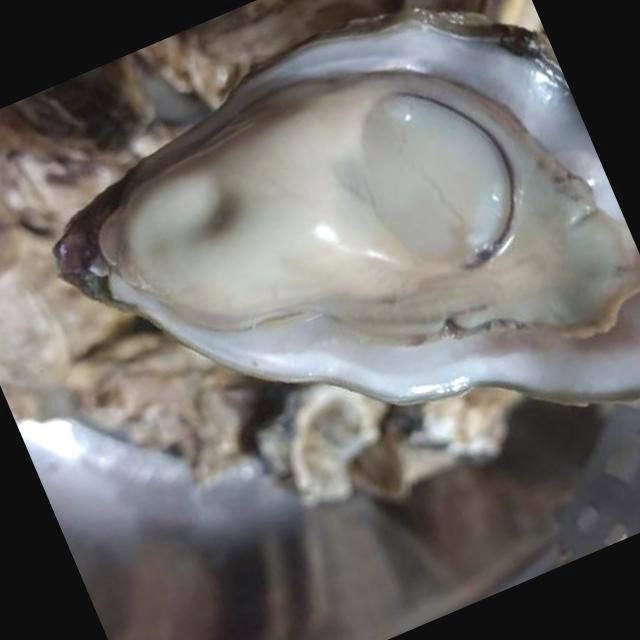Oyster-Closed: (64, 309, 288, 483), (350, 388, 528, 506), (250, 380, 392, 506)
Oyster-Open: (54, 10, 640, 408)
